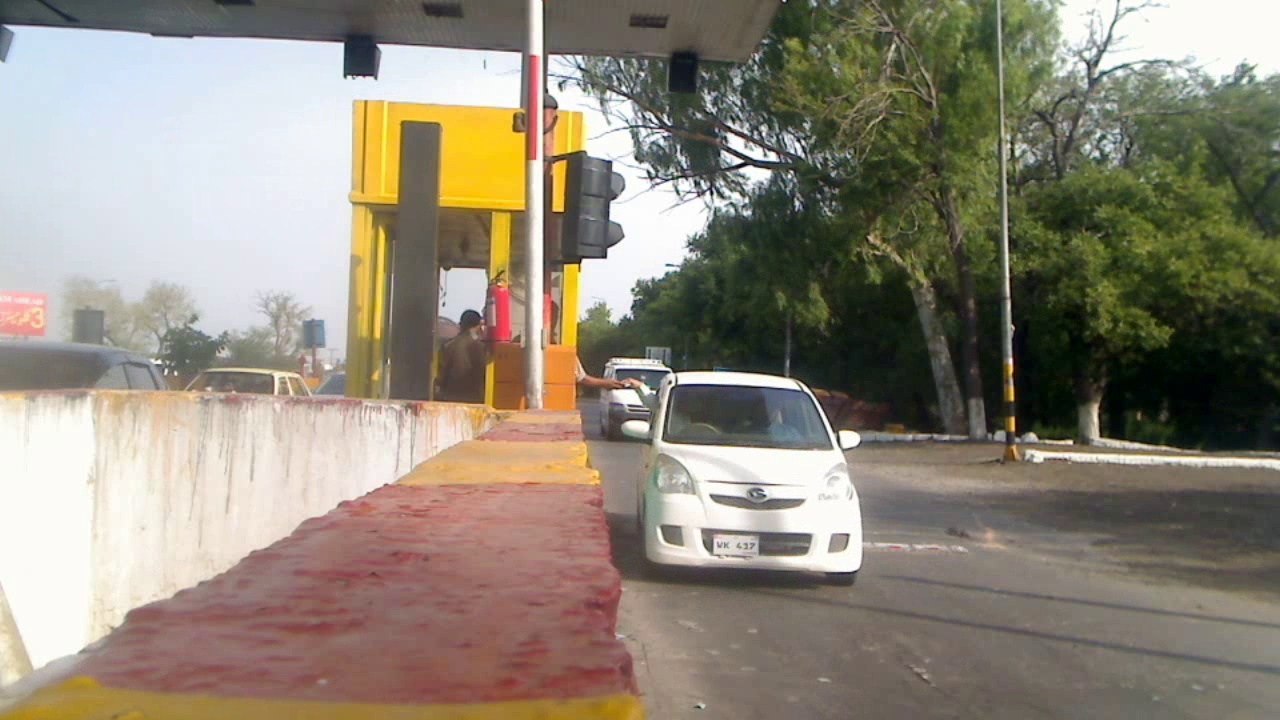Number Plate (Car): (715, 534, 760, 554)
